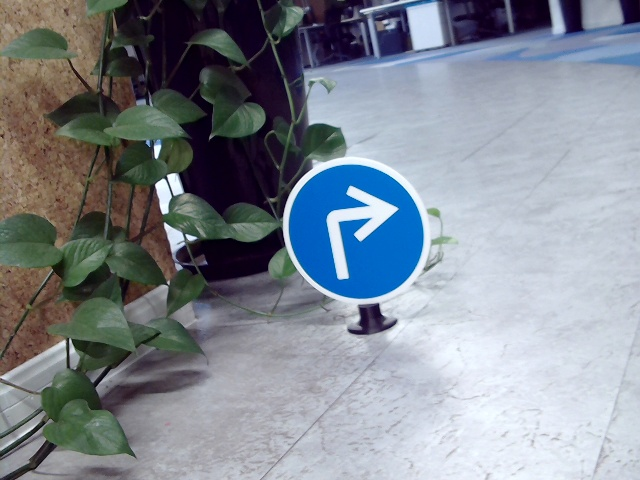turn_right: (315, 181, 399, 284)
